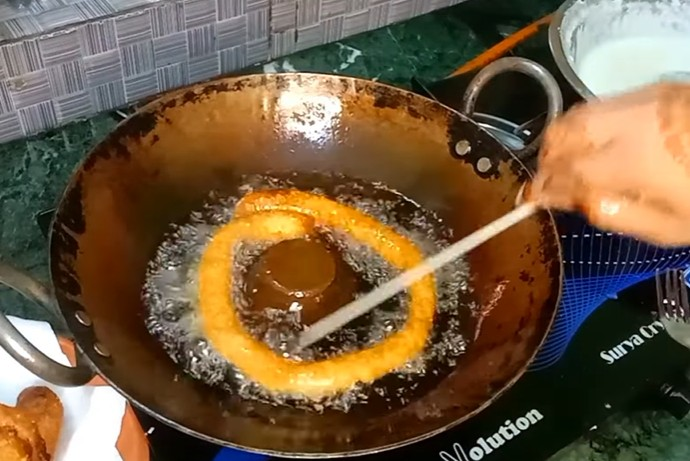sel_roti: (190, 186, 440, 396)
